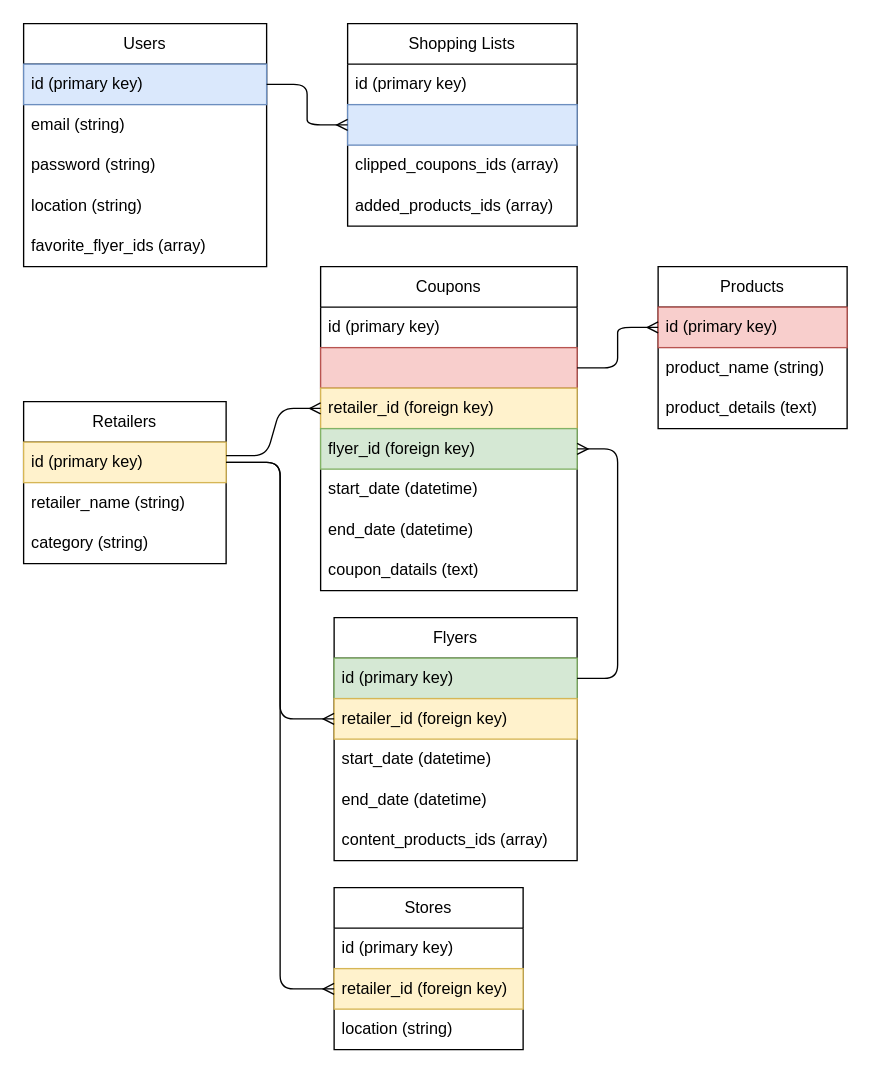
The diagram is 871 pixels wide and 1073 high, and some of its shapes have lost their labels. Each missing label, with the centre of its shape:
product_id (foreign key): pixel 448 367
user_id (foreign key): pixel 461 124
